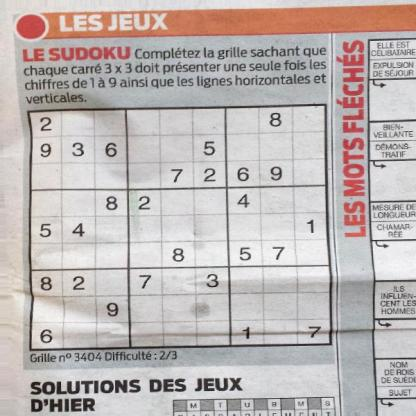sudoku: (27, 102, 335, 353)
